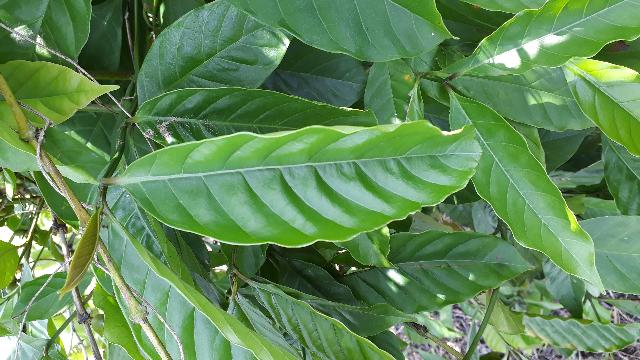healthy: (120, 120, 479, 249)
